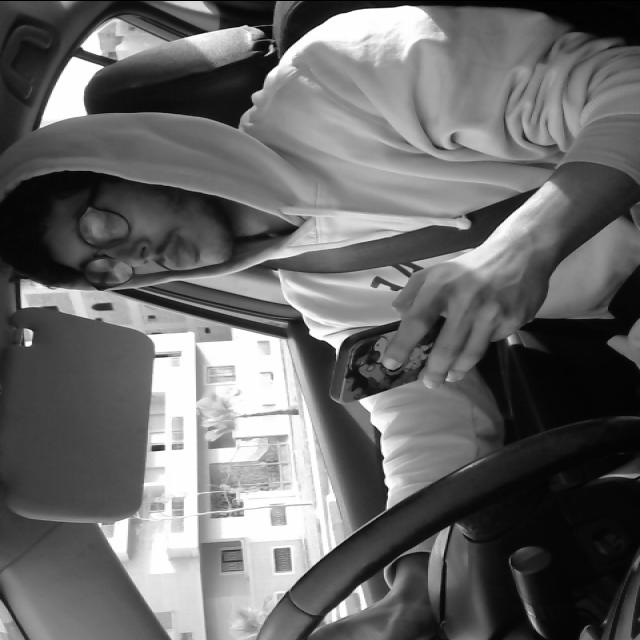mobile use: (322, 310, 494, 402)
